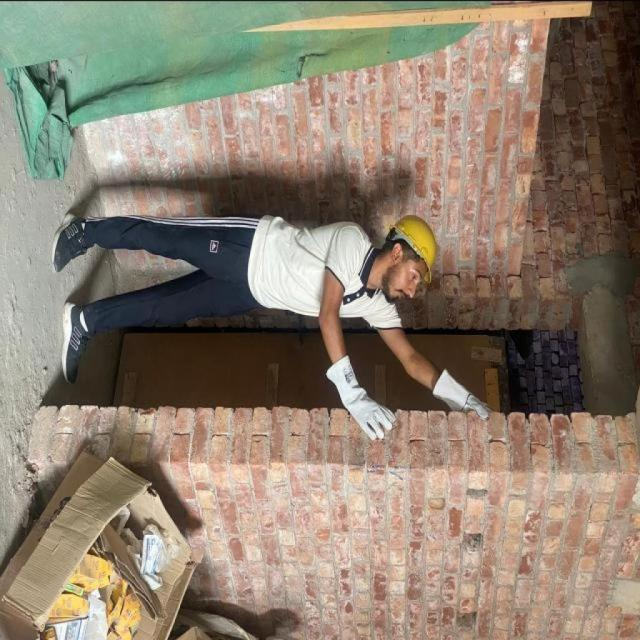Gloves-Detection: (321, 354, 392, 444), (423, 358, 488, 424)
